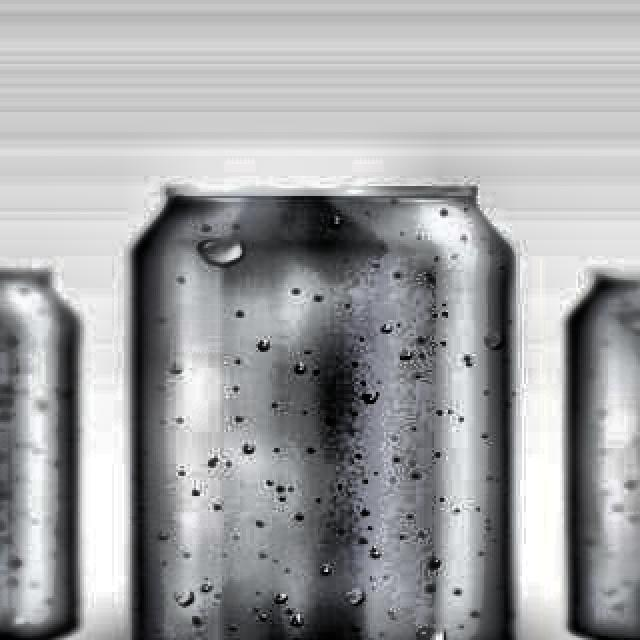metal: (114, 164, 528, 640), (0, 244, 100, 640), (556, 254, 640, 640)
